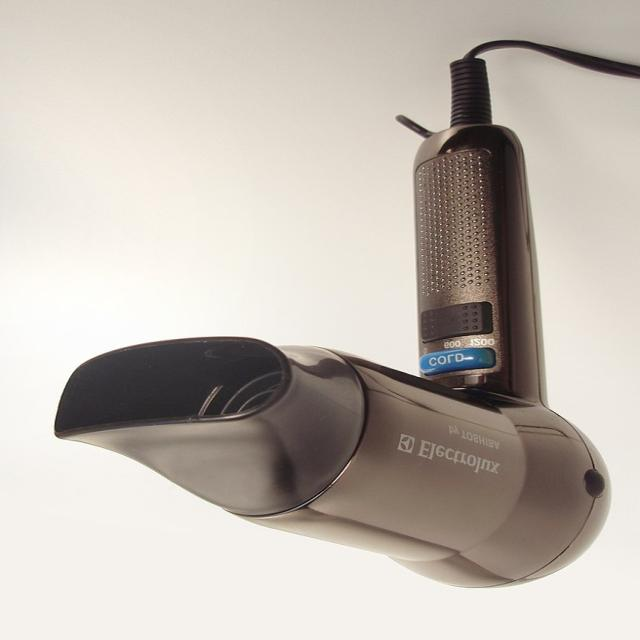dryer: (54, 57, 615, 590)
